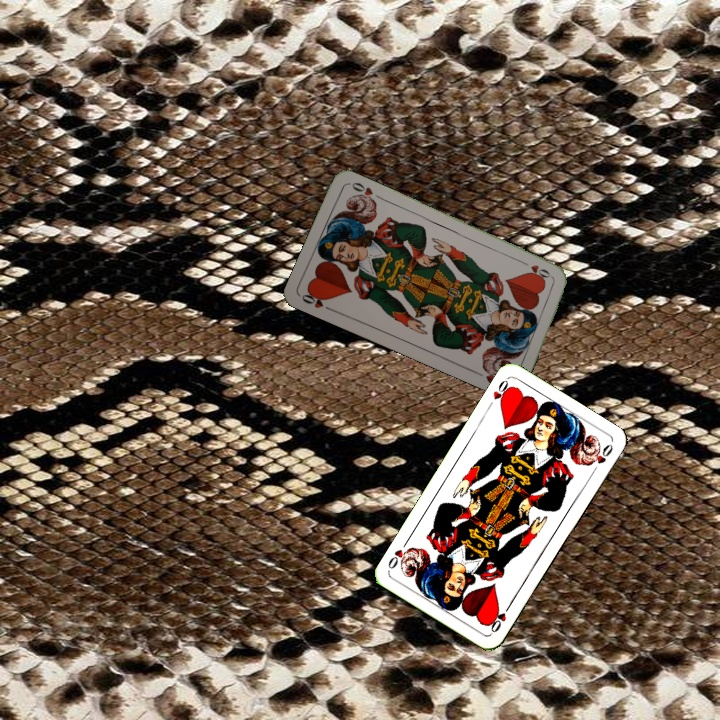HO: (484, 375, 514, 412), (297, 287, 335, 314), (487, 599, 514, 635), (517, 257, 555, 281)
